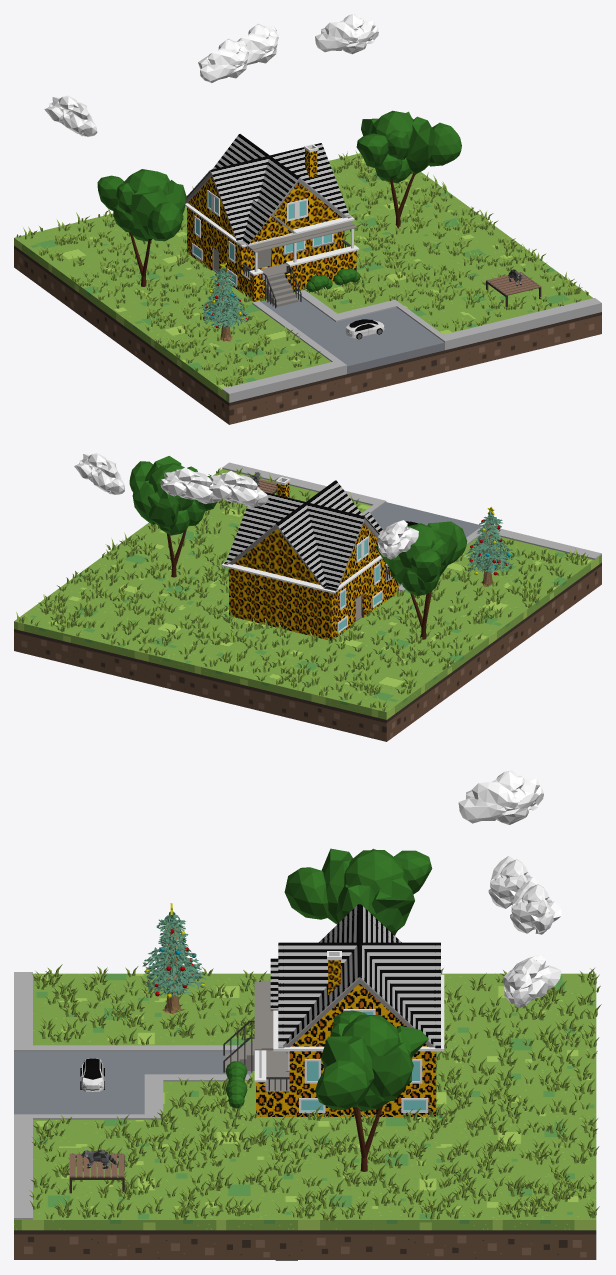
3 views of the same model, one above another, from view 1: azimuth 30°, elevation 25°; view 2: azimuth 150°, elevation 25°; view 3: azimuth 270°, elevation 25° (orthographic). The views are drawn at different scales.
Visible parts, largest first — view 1: Cube.006, Cube.637, Circle.012_Grass_0.192, Cube.007, tree, tree.001, OBJRANDOM_CHRISTMAS_TREE, Cube.009, VEHICLES_TESLA; view 2: Cube.006, Cube.637, Circle.012_Grass_0.192, Cube.007, tree.001, tree, OBJRANDOM_CHRISTMAS_TREE; view 3: Cube.006, Circle.012_Grass_0.192, Cube.637, tree, Cube.007, tree.001, OBJRANDOM_CHRISTMAS_TREE, Cube.009, VEHICLES_TESLA.
Boxes of the visible parts, bbox=[...] form: Cube.006: bbox=[14, 153, 601, 424]; Cube.637: bbox=[185, 134, 359, 308]; Circle.012_Grass_0.192: bbox=[16, 150, 588, 386]; Cube.007: bbox=[44, 14, 378, 136]; tree: bbox=[356, 110, 461, 228]; tree.001: bbox=[97, 169, 186, 286]; OBJRANDOM_CHRISTMAS_TREE: bbox=[199, 262, 249, 341]; Cube.009: bbox=[486, 272, 541, 306]; VEHICLES_TESLA: bbox=[345, 319, 384, 339]; Cube.006: bbox=[14, 462, 601, 741]; Cube.637: bbox=[221, 477, 398, 640]; Circle.012_Grass_0.192: bbox=[16, 468, 588, 711]; Cube.007: bbox=[74, 453, 418, 559]; tree.001: bbox=[375, 521, 467, 639]; tree: bbox=[129, 456, 216, 577]; OBJRANDOM_CHRISTMAS_TREE: bbox=[465, 506, 512, 587]; Cube.006: bbox=[14, 972, 596, 1259]; Circle.012_Grass_0.192: bbox=[29, 964, 601, 1221]; Cube.637: bbox=[223, 904, 444, 1116]; tree: bbox=[315, 1010, 428, 1171]; Cube.007: bbox=[458, 770, 561, 1007]; tree.001: bbox=[284, 848, 432, 935]; OBJRANDOM_CHRISTMAS_TREE: bbox=[142, 903, 205, 1014]; Cube.009: bbox=[69, 1153, 124, 1193]; VEHICLES_TESLA: bbox=[80, 1058, 104, 1091].
Size of the model in its own units: 4071 by 2184 by 4040.
32 materials, 4 textured.
